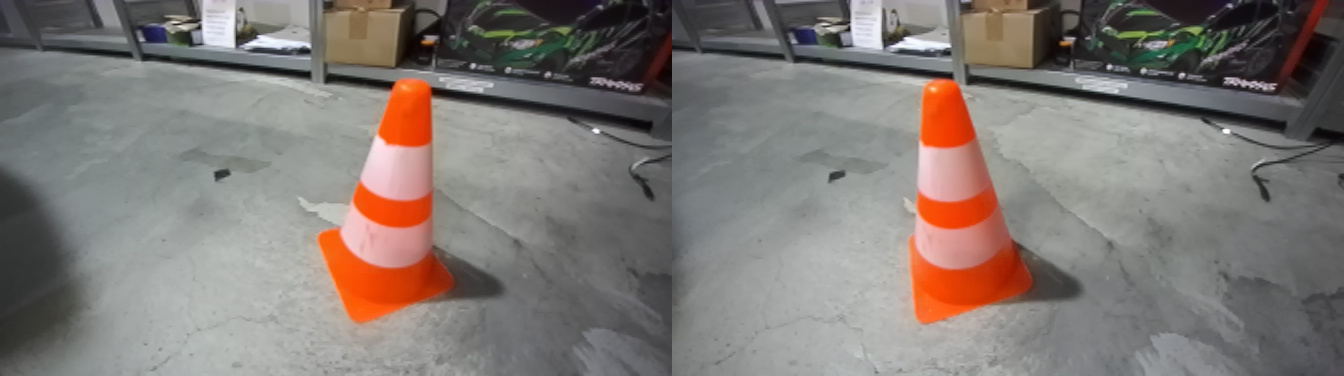cone: (322, 84, 464, 333), (914, 79, 1037, 330)
